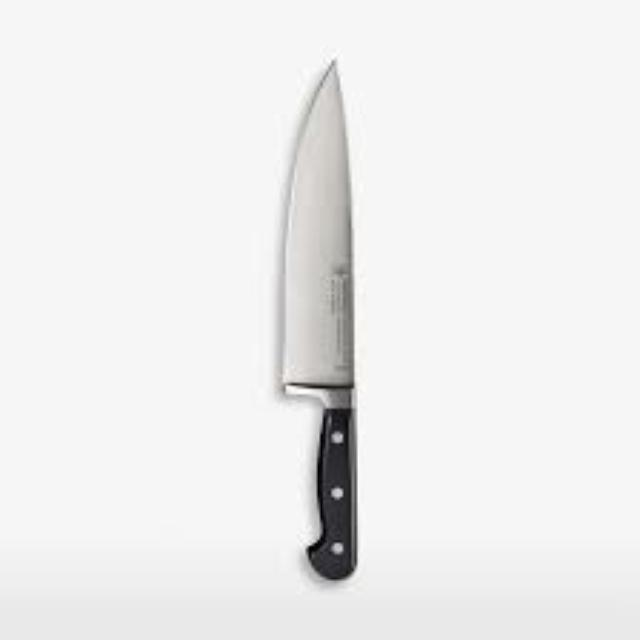knife: (277, 54, 357, 580)
